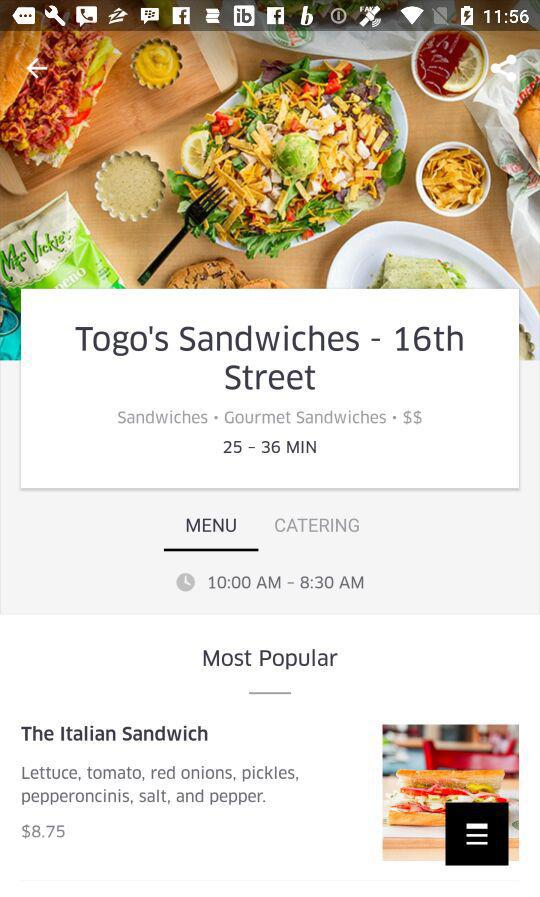Icon: (445, 802, 509, 866), (490, 55, 517, 83), (26, 58, 49, 80), (176, 573, 196, 593)
Image: (1, 33, 540, 362), (382, 724, 519, 861)
Text: (76, 325, 464, 392), (22, 765, 299, 806), (118, 409, 423, 425), (21, 725, 209, 742), (204, 649, 339, 671), (209, 575, 364, 589), (223, 441, 317, 455), (275, 518, 360, 533), (186, 518, 237, 533), (22, 823, 66, 839)
UpperTaskBar: (1, 1, 540, 33)
